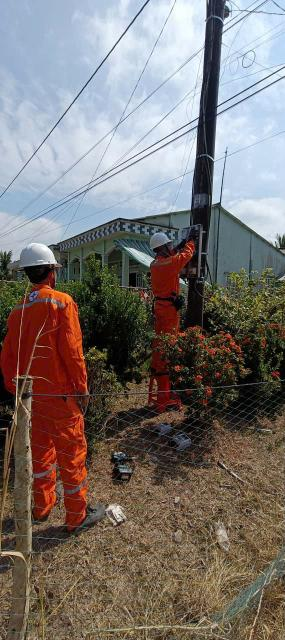harness: (149, 289, 187, 309)
helmet: (11, 235, 67, 272), (148, 225, 172, 253), (186, 227, 202, 242), (172, 240, 193, 251)
shoes: (54, 493, 111, 538), (25, 475, 64, 520)
